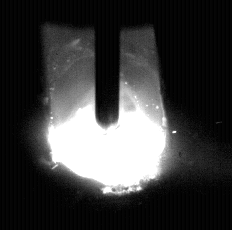arame: (95, 0, 122, 130)
poca: (46, 0, 169, 230)
